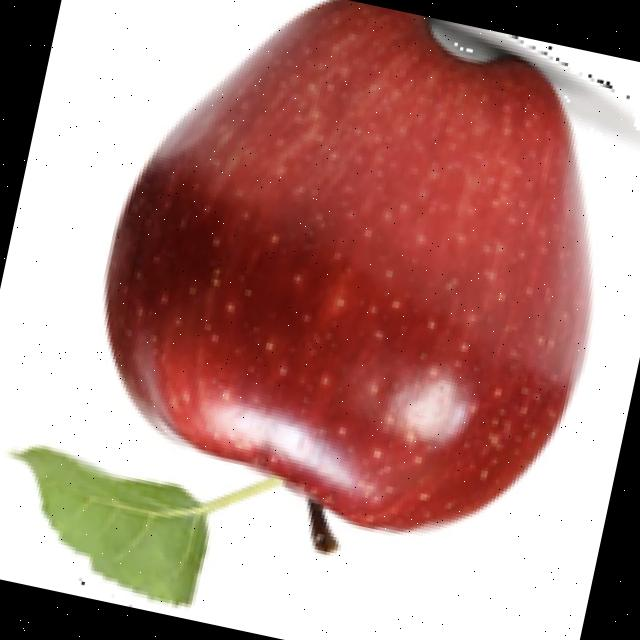apple: (3, 0, 640, 612)
